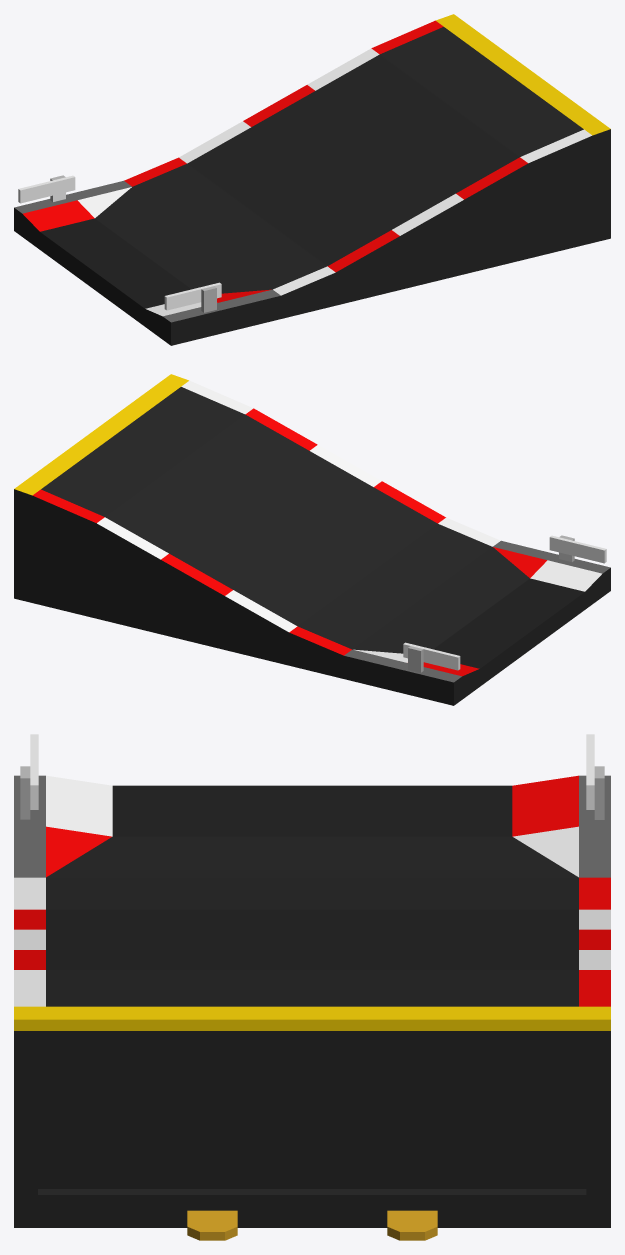
3 renders of one model, top to bottom at view 1: azimuth 30°, elevation 25°; view 2: azimuth 150°, elevation 25°; view 3: azimuth 270°, elevation 25°, orthographic. The views are drawn at different scales.
Parts seen in each view (by area): view 1: Group1; view 2: Group1; view 3: Group1.
Part boxes in pixels (box(x1,y1,x2,y2)): Group1: box(14, 14, 610, 345); Group1: box(14, 374, 610, 705); Group1: box(14, 734, 610, 1240).
Size of the model in its own units: 21.96 by 4.97 by 12.91.
